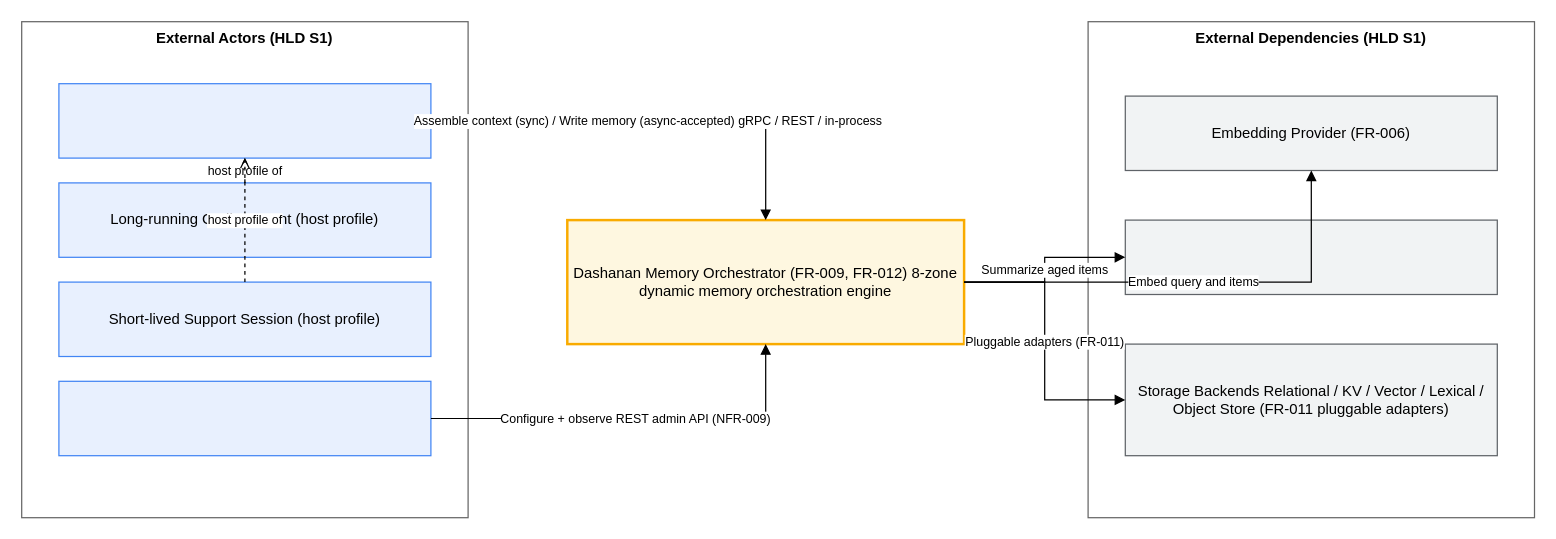
This 1556x539 diagram has some shape labels left out. Here are the shapes that lost their labels. From the top down, the centre of each, then its label:
At point (244, 120): "Host AI System / Agent Framework (FR-009)".
At point (1310, 256): "Summarization LLM (compress transition, FR-012)".
At point (244, 418): "Deployment Operator (NFR-009)".
